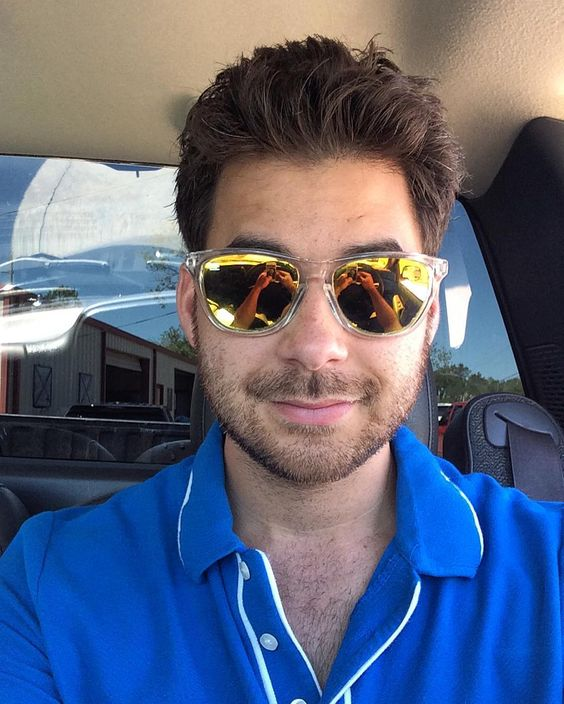sunglasses: (196, 252, 431, 336)
